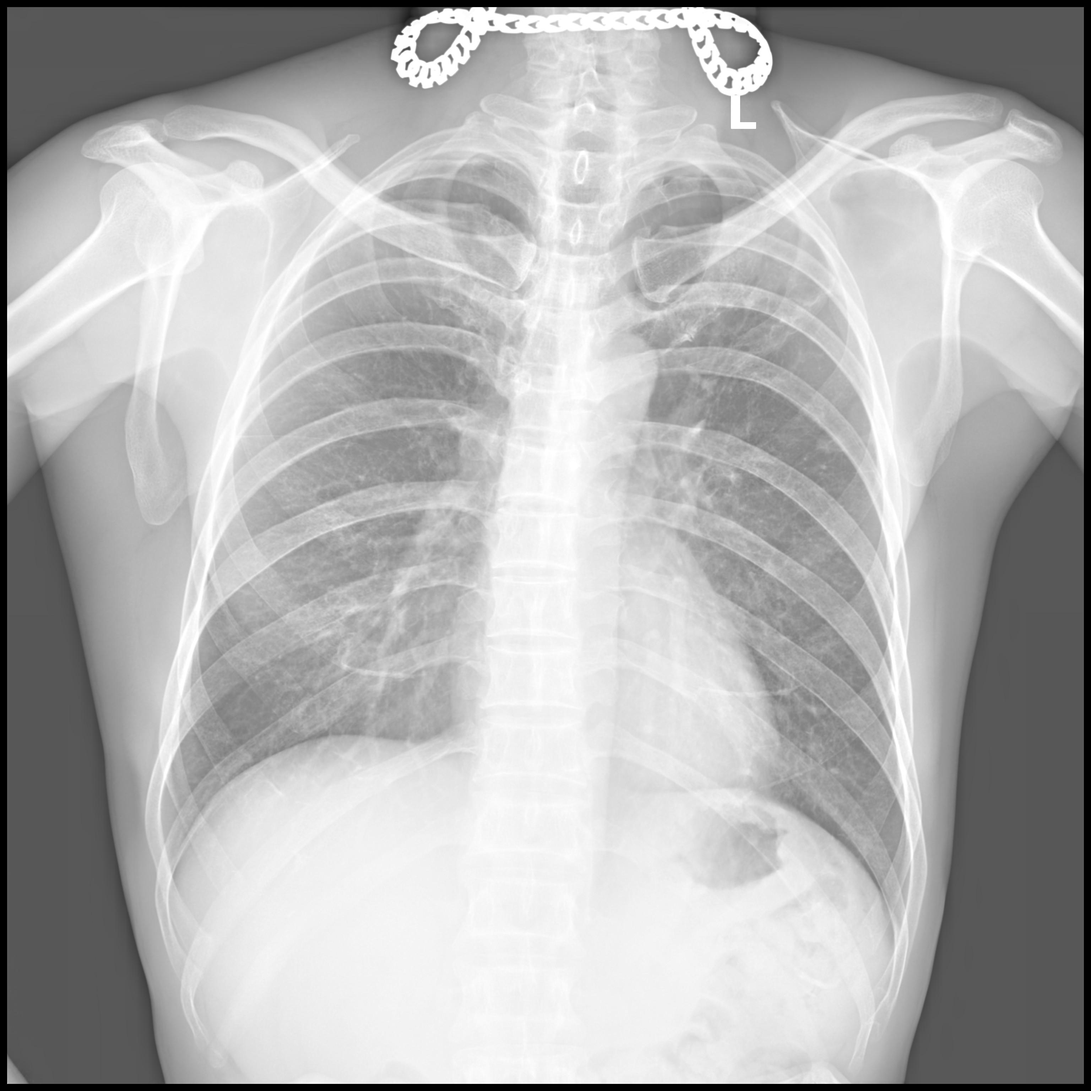Pulmonary fibrosis: (756, 263, 840, 342), (818, 417, 874, 457)
